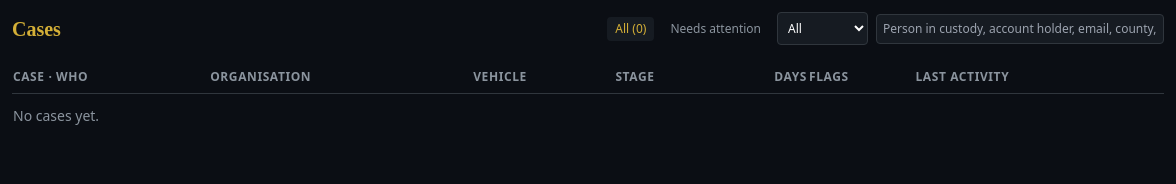
Test: cases page › search matches the person in custody as well as the account holder
Replace the text in the field named "Find a case" with "juan" at x=1020, y=28, box [876,14,1164,44]
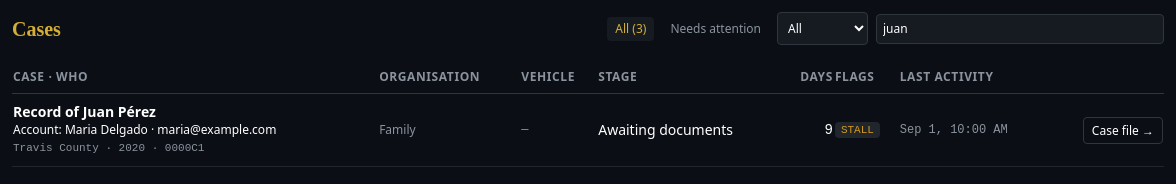
Expected: the table with test id "cases-table" does not show "Bexar", [12,61,1164,167]
Now the table with test id "cases-table" shows "Juan Pérez", box [13,102,156,121]
Replace the text in the field named "Find a case" with "ortiz" at x=1020, y=28, box [876,14,1164,44]
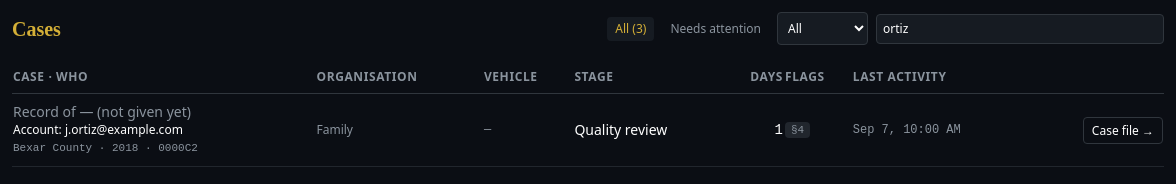
Now the table with test id "cases-table" shows "Bexar", box [13,142,138,154]
Now the table with test id "cases-table" no longer shows "Travis", box [12,61,1164,167]
Replace the text in the field named "Find a case" with "gw" at x=1020, y=28, box [876,14,1164,44]
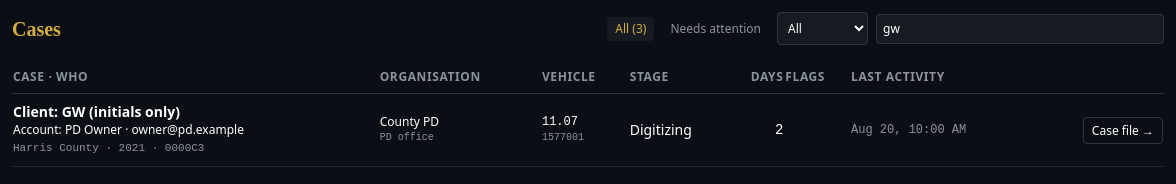
Now the table with test id "cases-table" shows "Harris", box [13,142,145,154]
